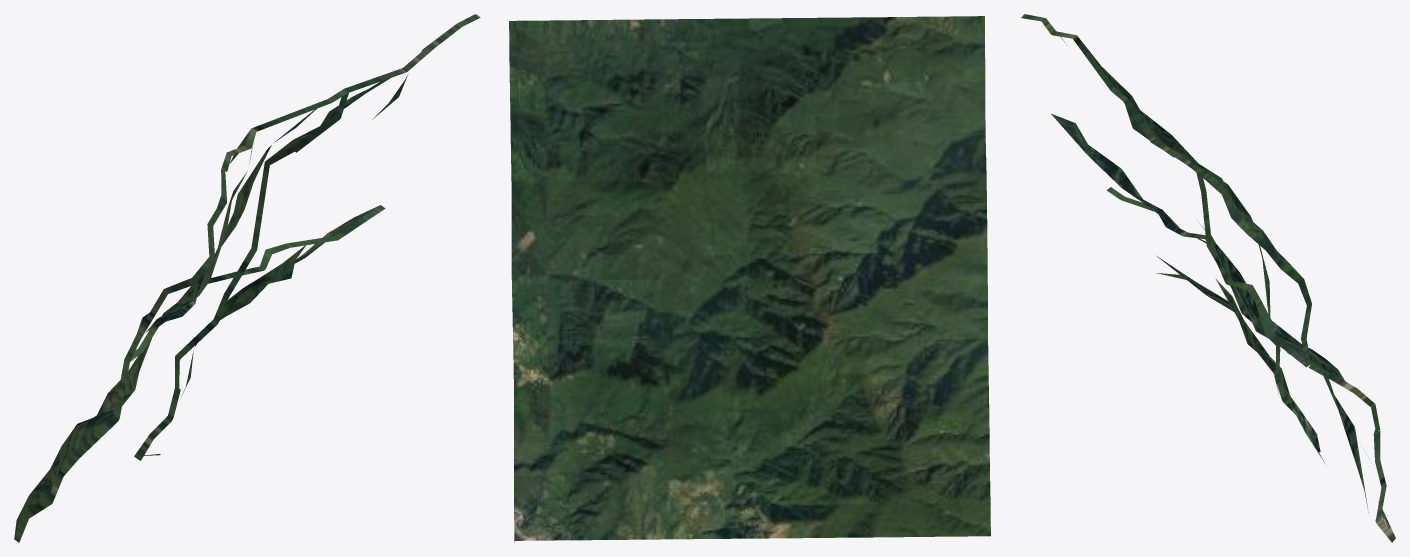
3 renders of one model, left to right at view 1: azimuth 30°, elevation 25°; view 2: azimuth 150°, elevation 25°; view 3: azimuth 270°, elevation 25°, orthographic. The views are drawn at different scales.
Size of the model in its own units: 10307 by 9365 by 7727.
Materials: 1 (1 with a texture image).
